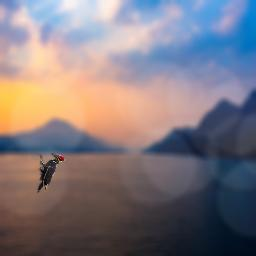Woodpecker: (37, 153, 65, 193)
